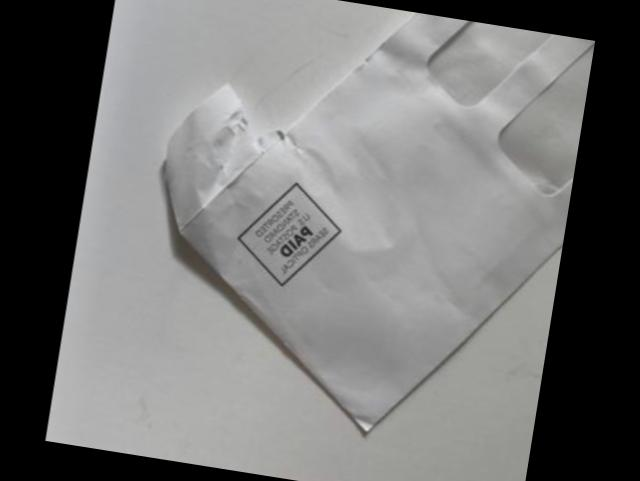cardboard paper: (162, 12, 592, 429)
